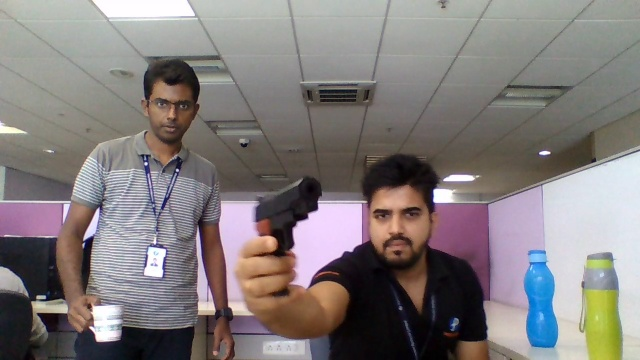gun: (251, 175, 323, 250)
